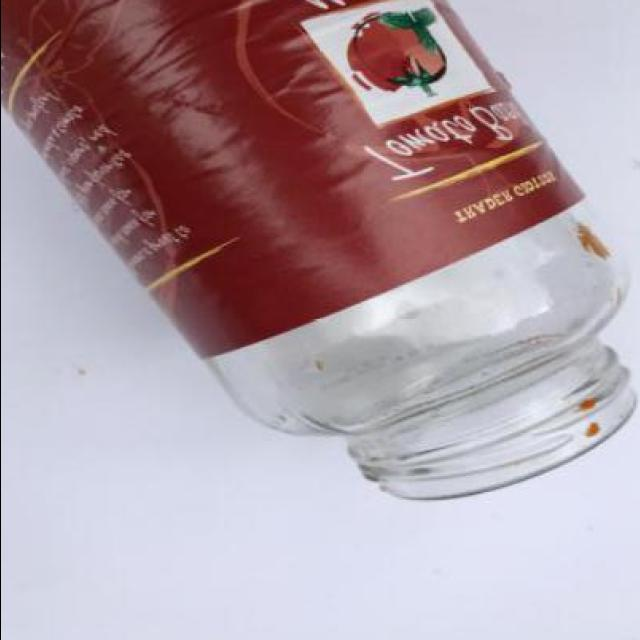kaca: (0, 0, 637, 502)
